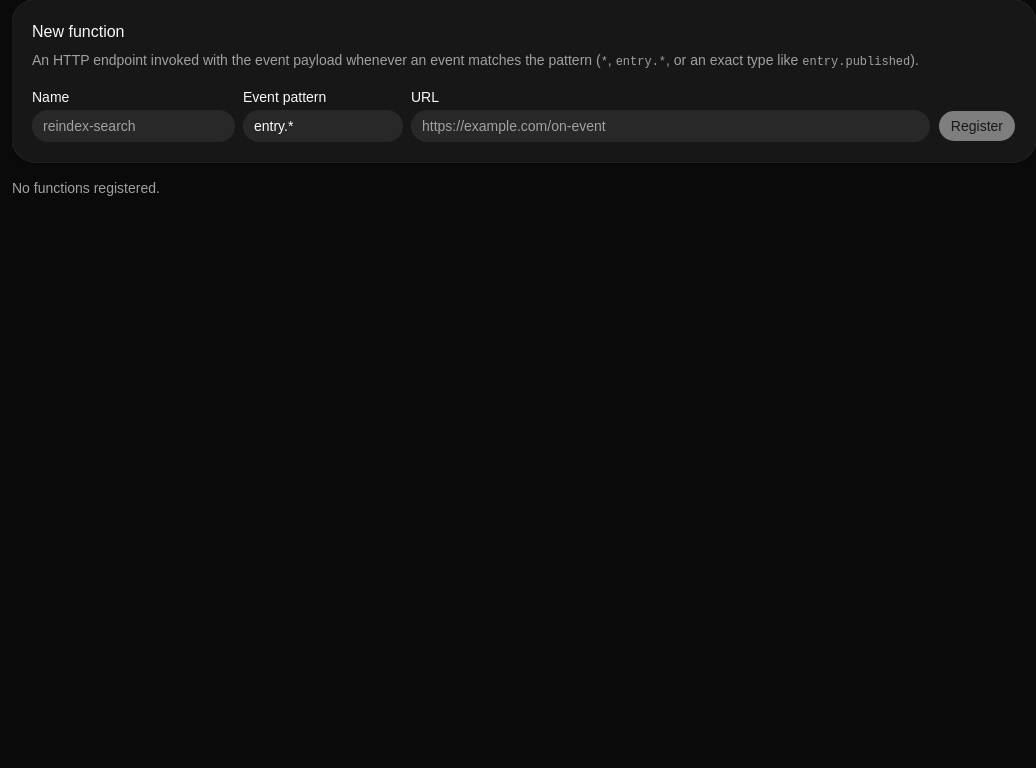
Test: Functions panel › registers a function and lists it, then deletes it
Check: the text "No functions registered." is shown, box [12,180,160,196]
Type "reindex" into the field labelled "Name".
click(134, 126); type("reindex")  # box [32,110,235,142]
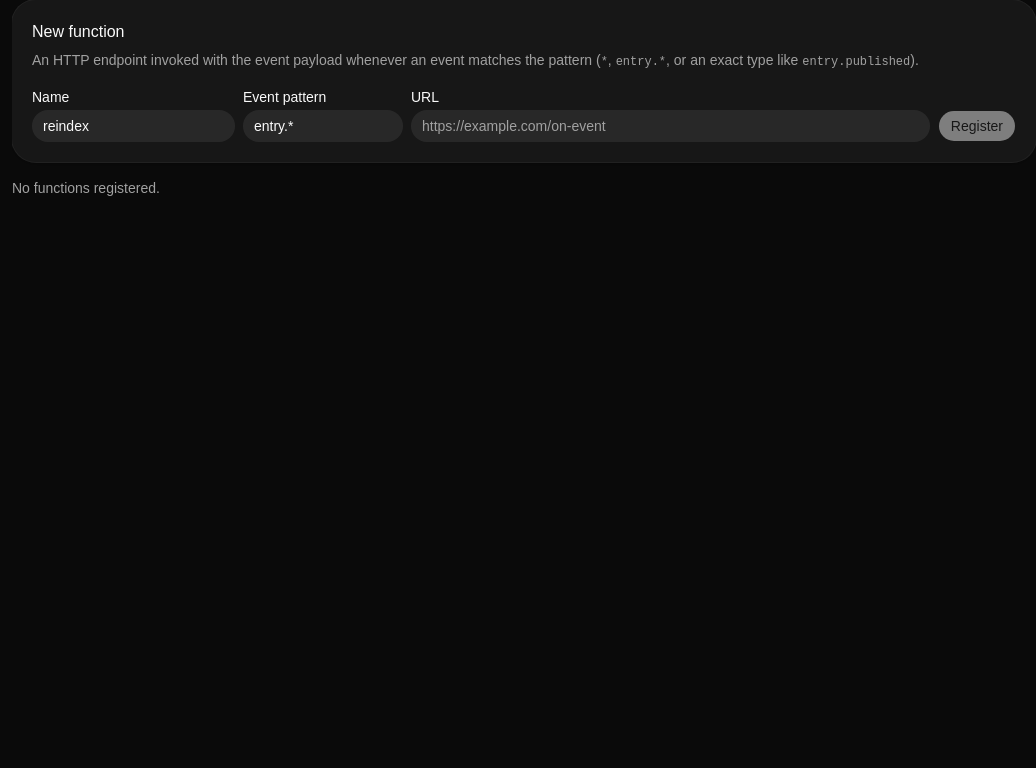
Type "https://example.com/hook" into the field labelled "URL".
click(670, 126); type("https://example.com/hook")  # box [411,110,930,142]
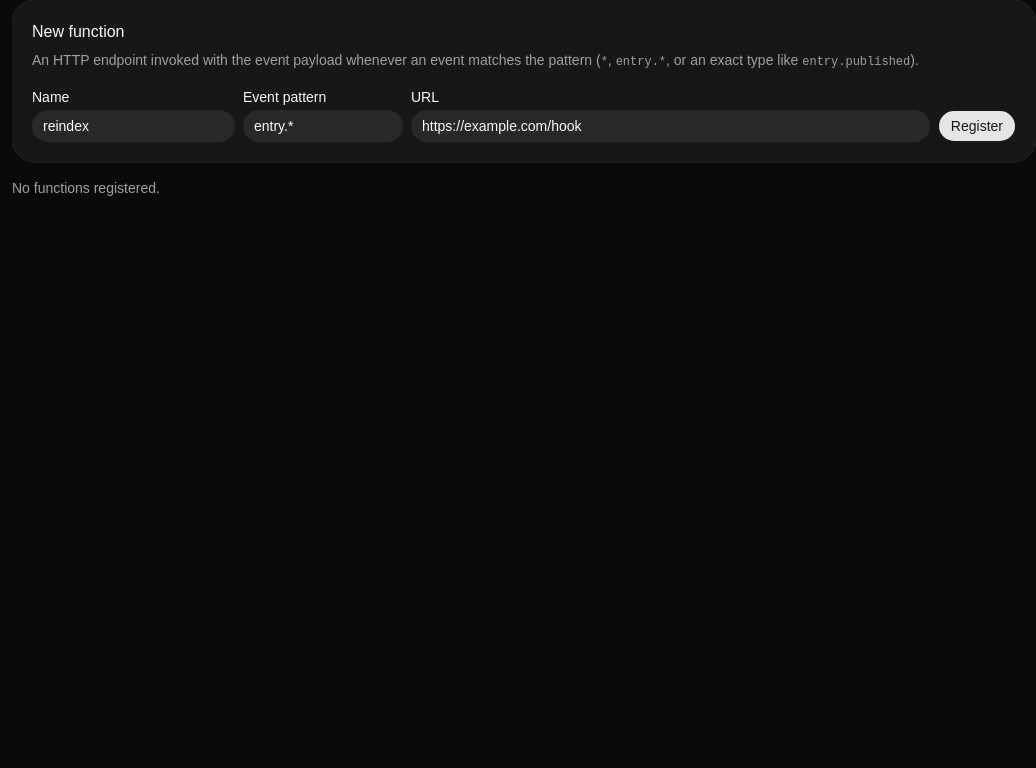
Click the button "Register".
click(977, 126)  # box [938,110,1016,142]
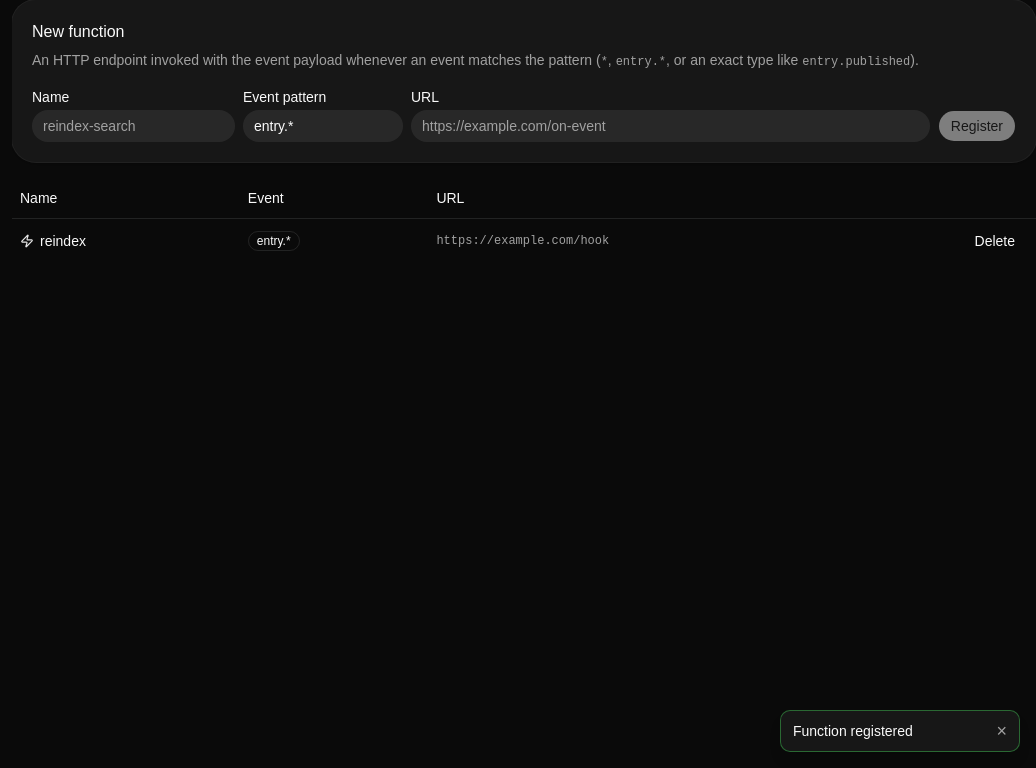
Check: the text "reindex" is shown, box [20,232,86,248]
Click the button "Delete".
click(995, 240)  # box [962,226,1028,254]
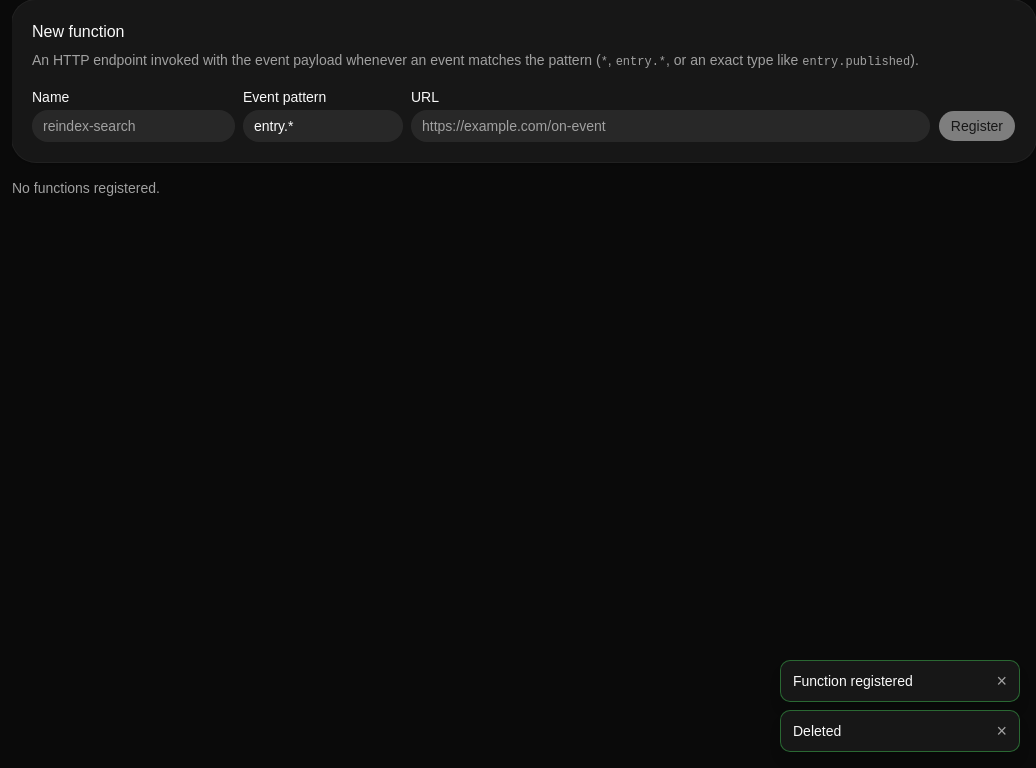
Check: the text "No functions registered." is shown, box [12,180,160,196]
